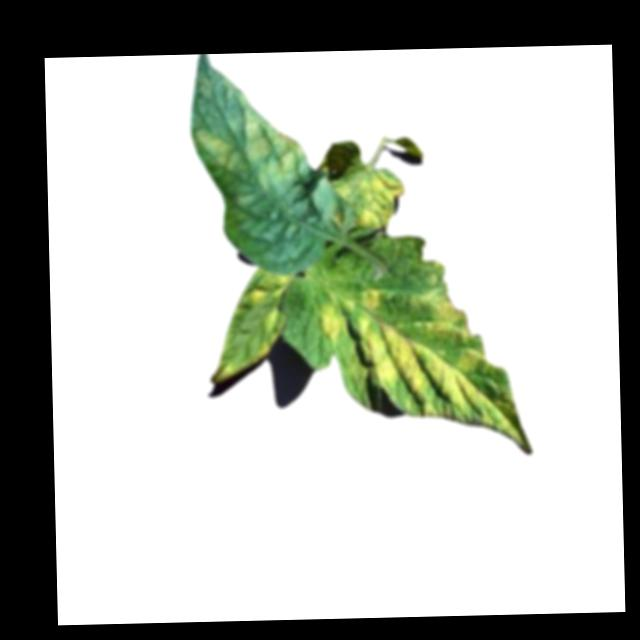Leaf_Mold: (320, 282, 528, 455), (191, 106, 304, 191), (331, 162, 403, 231), (250, 272, 295, 307)
